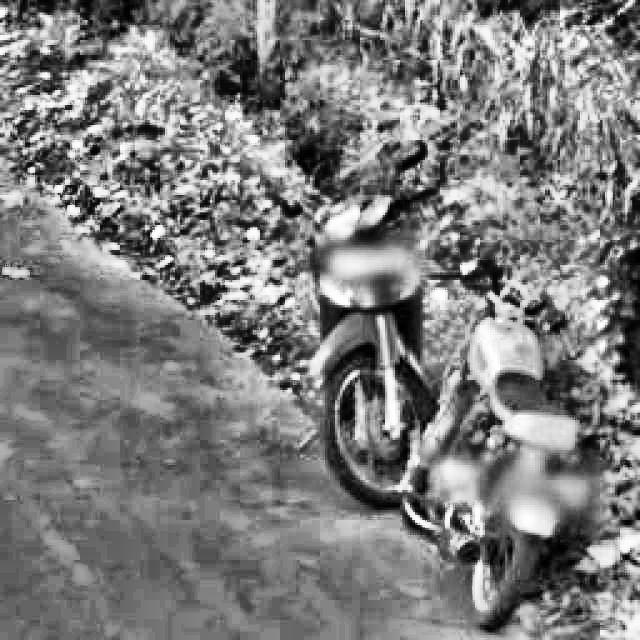motorcycle: (433, 246, 608, 640), (257, 139, 425, 497)
